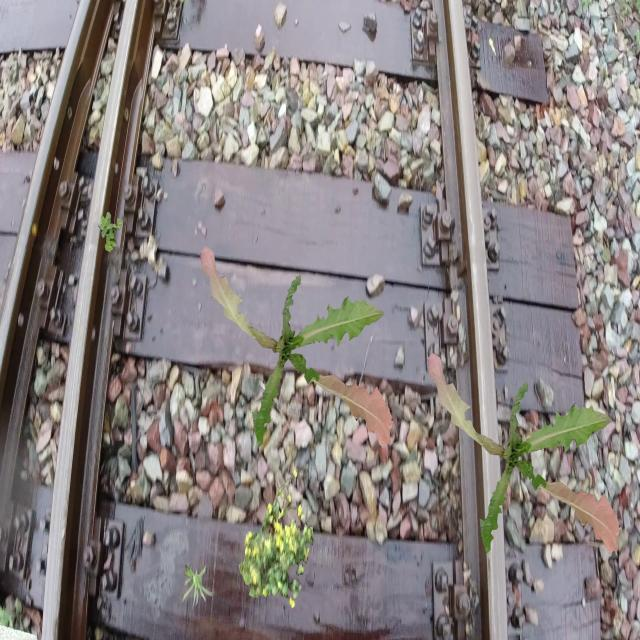Plant: (427, 353, 620, 556), (200, 246, 392, 448), (239, 469, 314, 609), (182, 564, 214, 610), (99, 212, 123, 253)
